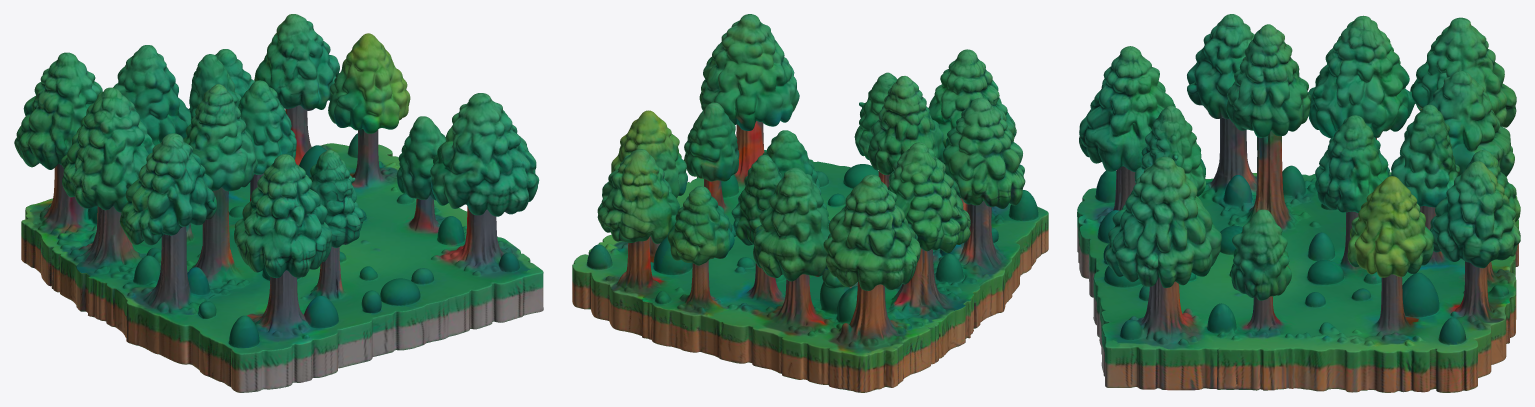
The model's file is terrain_forest 2.glb.
The picture shows the model from 3 angles, left to right: view 1: azimuth 30°, elevation 25°; view 2: azimuth 150°, elevation 25°; view 3: azimuth 270°, elevation 25°; orthographic projection. The views are drawn at different scales.
Parts seen in each view (by area): view 1: tripo_node_1fa54446-b840-4715-98b5-1cf15e77a6fa; view 2: tripo_node_1fa54446-b840-4715-98b5-1cf15e77a6fa; view 3: tripo_node_1fa54446-b840-4715-98b5-1cf15e77a6fa.
Part boxes in pixels (box(x1,y1,x2,y2)): tripo_node_1fa54446-b840-4715-98b5-1cf15e77a6fa: box(14, 14, 543, 392); tripo_node_1fa54446-b840-4715-98b5-1cf15e77a6fa: box(572, 14, 1048, 392); tripo_node_1fa54446-b840-4715-98b5-1cf15e77a6fa: box(1077, 14, 1520, 392).
Size of the model in its own units: 0.9988 by 0.7484 by 1.
Materials: 1 (1 with a texture image).
